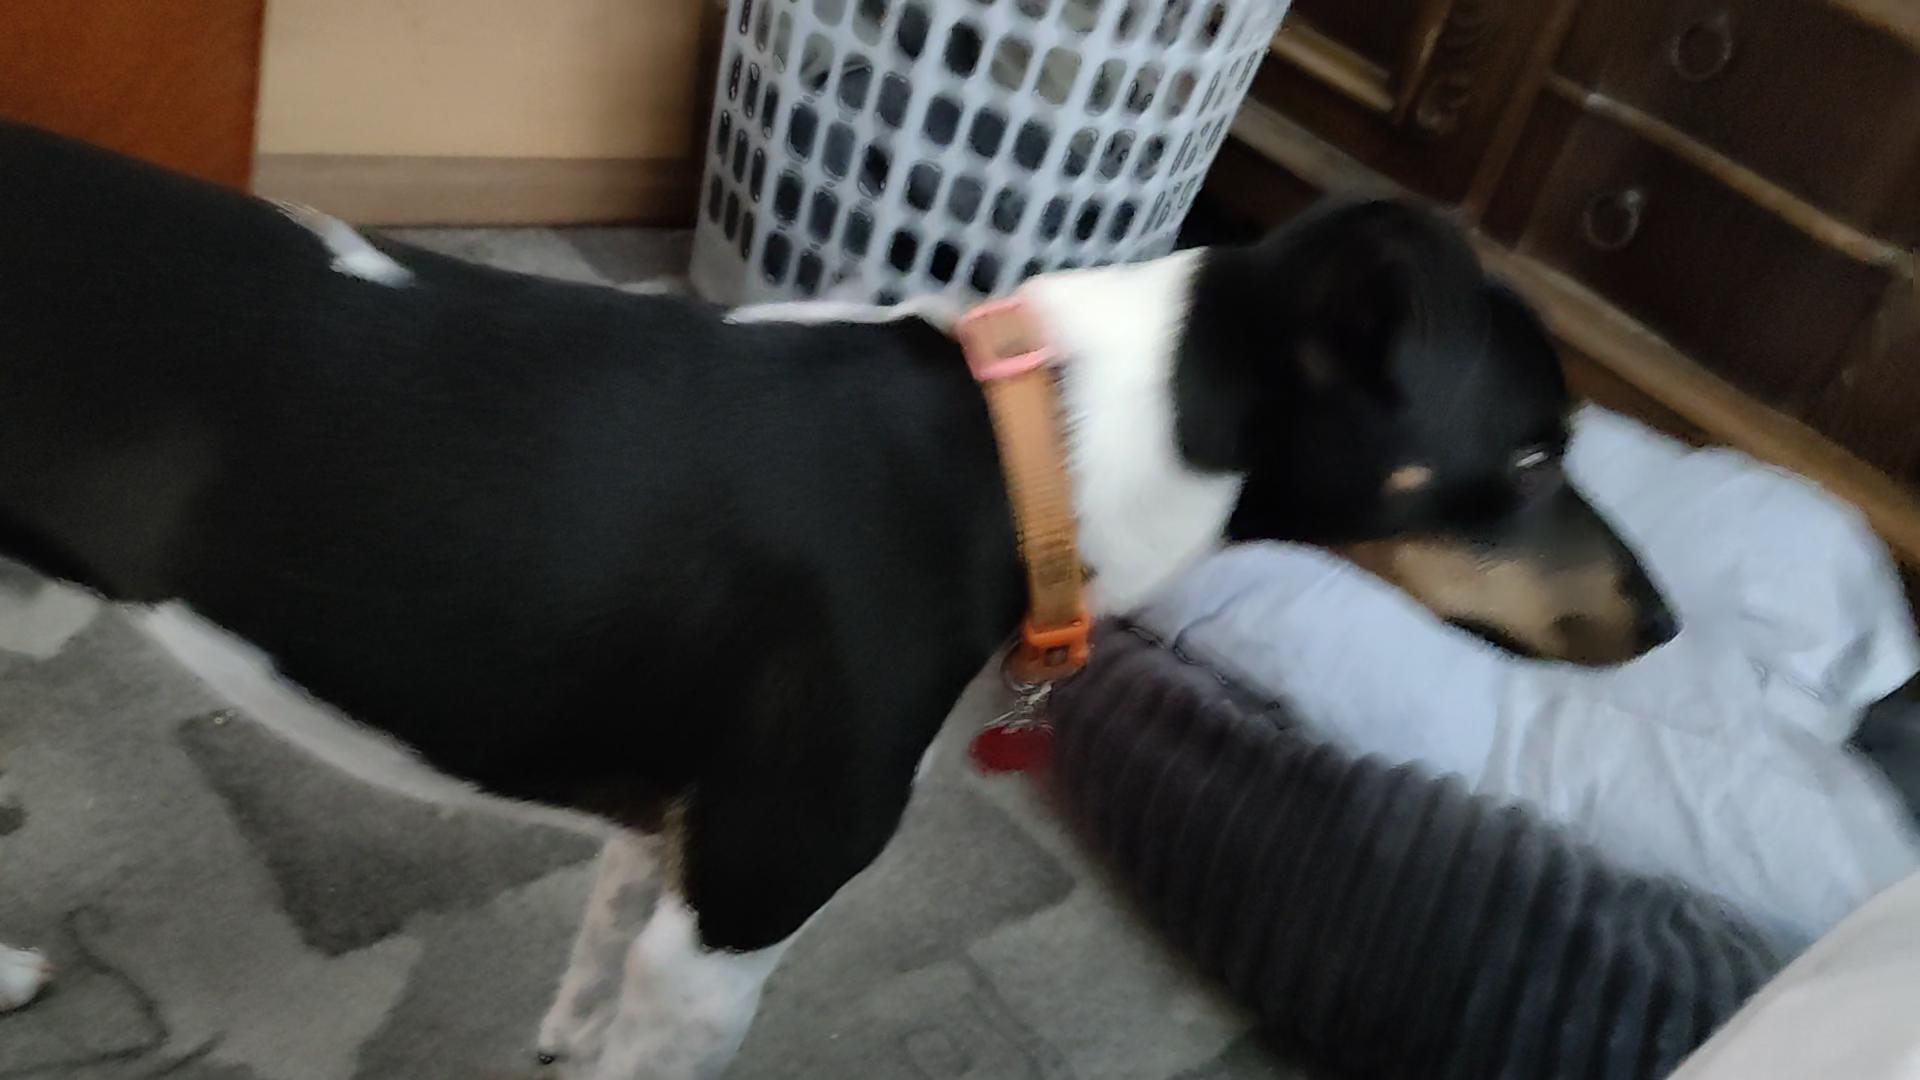Dog: (0, 98, 1698, 1079)
